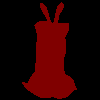vestito: (22, 2, 77, 99)
